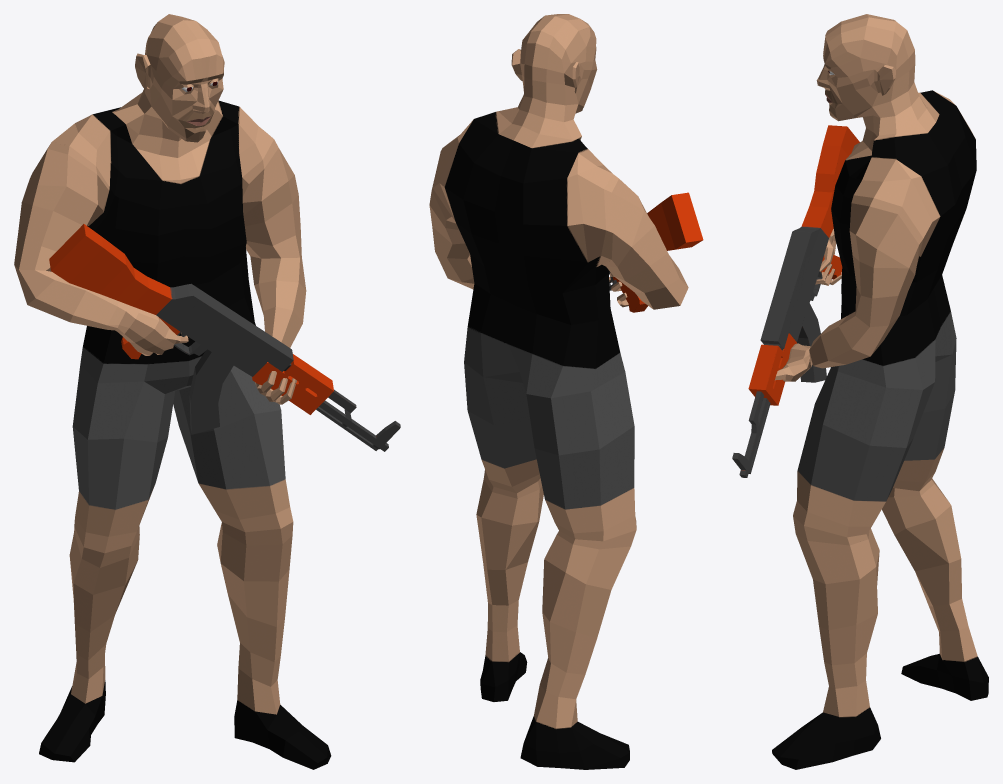
The model's file is PlayerIdle(201).obj.
3 views of the same model, side by side, from view 1: azimuth 30°, elevation 25°; view 2: azimuth 150°, elevation 25°; view 3: azimuth 270°, elevation 25° (orthographic). The views are drawn at different scales.
Visible parts, largest first — view 1: Plane002, Object001; view 2: Plane002, Object001; view 3: Plane002, Object001.
Boxes of the visible parts, x1,y1,x2,y2 form: Plane002: (14, 14, 331, 769); Object001: (49, 224, 400, 451); Plane002: (429, 14, 688, 769); Object001: (609, 192, 703, 312); Plane002: (772, 14, 988, 769); Object001: (732, 125, 859, 477).
Size of the model in its own units: 757 by 1797 by 596.
